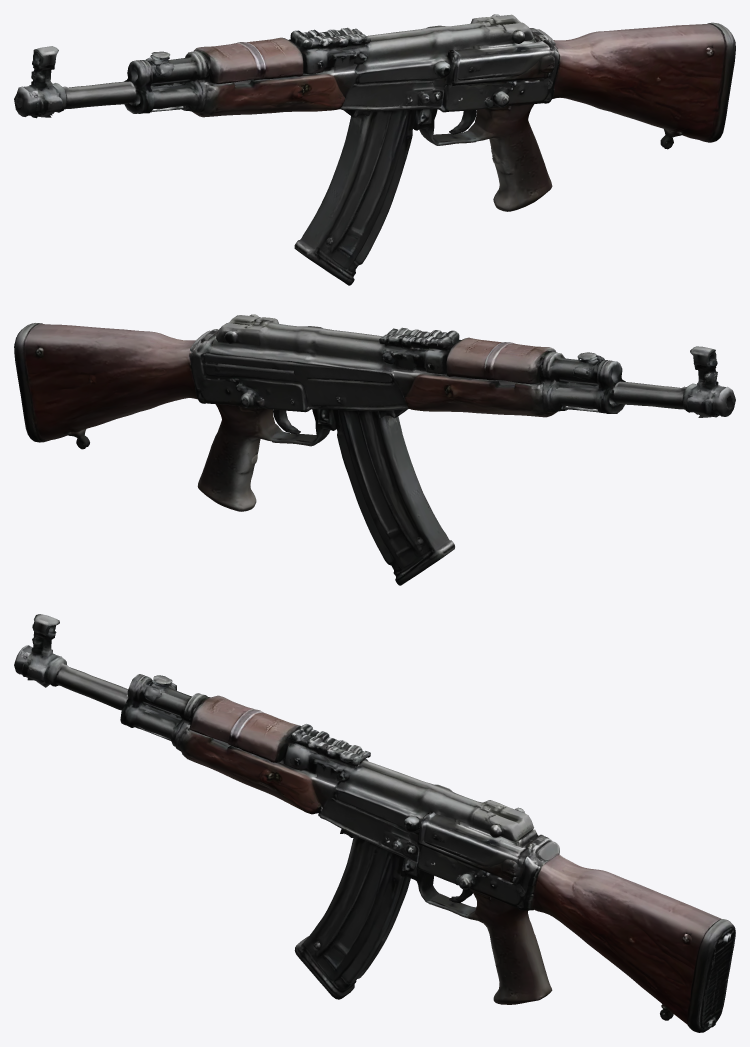
The model's file is rn_battlefal.glb.
3 renders of one model, top to bottom at view 1: azimuth 30°, elevation 25°; view 2: azimuth 150°, elevation 25°; view 3: azimuth 330°, elevation 25°, orthographic.
Visible parts, largest first — view 1: tripo_node_01b87c4c-9c70-4fe9-bbfa-8f57ba307102; view 2: tripo_node_01b87c4c-9c70-4fe9-bbfa-8f57ba307102; view 3: tripo_node_01b87c4c-9c70-4fe9-bbfa-8f57ba307102.
Part boxes in pixels (left/top/right/bottom): tripo_node_01b87c4c-9c70-4fe9-bbfa-8f57ba307102: left=14, top=14, right=735, bottom=285; tripo_node_01b87c4c-9c70-4fe9-bbfa-8f57ba307102: left=14, top=314, right=735, bottom=585; tripo_node_01b87c4c-9c70-4fe9-bbfa-8f57ba307102: left=14, top=614, right=735, bottom=1032.
Bounding box in the file's own units: 0.9815 × 0.4047 × 0.101.
1 material, 1 textured.
